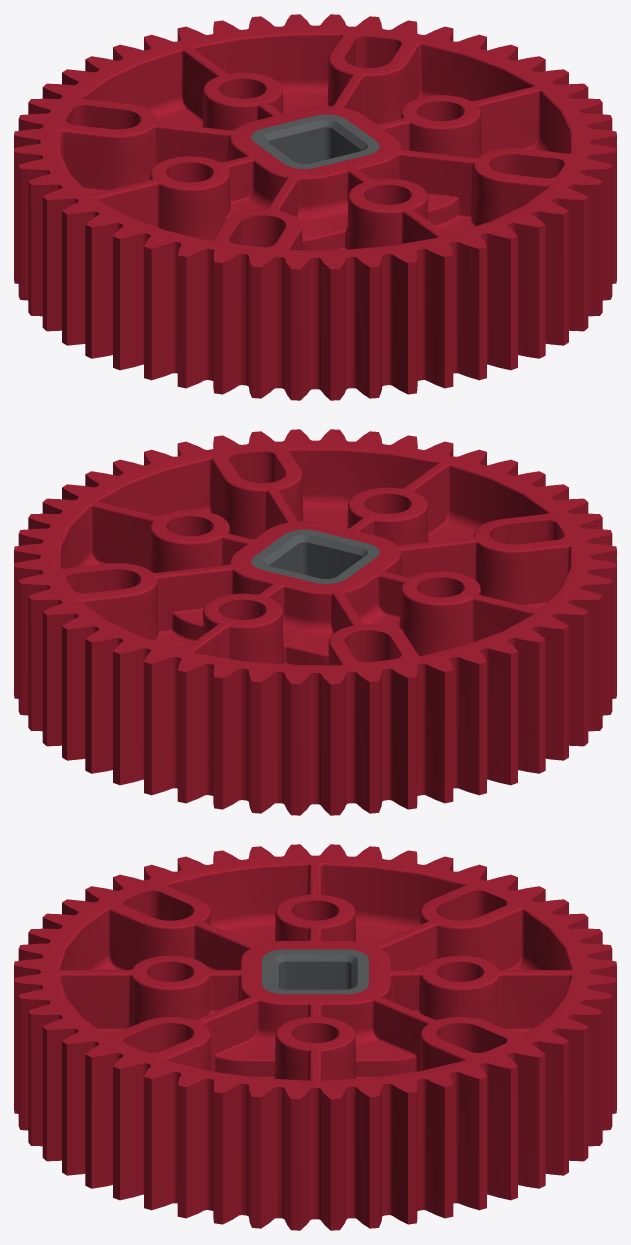
Rendered from 48t-high-strength-gear-v2.glb.
3 views of the same model, one above another, from view 1: azimuth 30°, elevation 25°; view 2: azimuth 150°, elevation 25°; view 3: azimuth 270°, elevation 25° (orthographic).
Visible parts, largest first — view 1: 276-7573-001_OVERMOLD Rev7_48T 24DP Gear, 276-7573-002 Rev7; view 2: 276-7573-001_OVERMOLD Rev7_48T 24DP Gear, 276-7573-002 Rev7; view 3: 276-7573-001_OVERMOLD Rev7_48T 24DP Gear, 276-7573-002 Rev7.
Boxes of the visible parts, x1,y1,x2,y2 form: 276-7573-001_OVERMOLD Rev7_48T 24DP Gear: (14,14,616,400); 276-7573-002 Rev7: (251,114,379,168); 276-7573-001_OVERMOLD Rev7_48T 24DP Gear: (14,429,616,815); 276-7573-002 Rev7: (251,529,379,583); 276-7573-001_OVERMOLD Rev7_48T 24DP Gear: (14,844,616,1230); 276-7573-002 Rev7: (262,949,368,994).
Size of the model in its own units: 0.0529 by 0.0127 by 0.0529.
